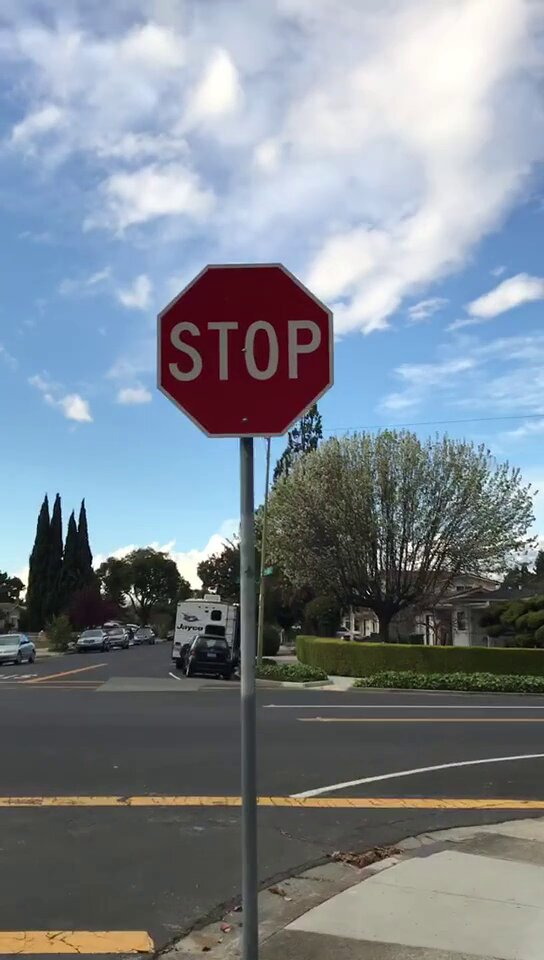stop_sign: (161, 264, 336, 434)
